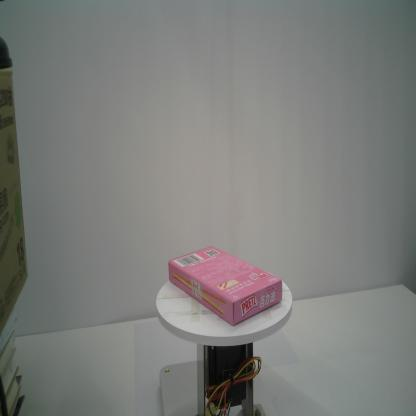Dessert: (167, 245, 283, 327)
